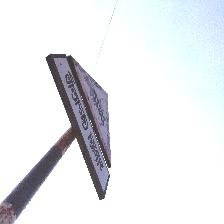Rail-crossing: (45, 50, 115, 202)
